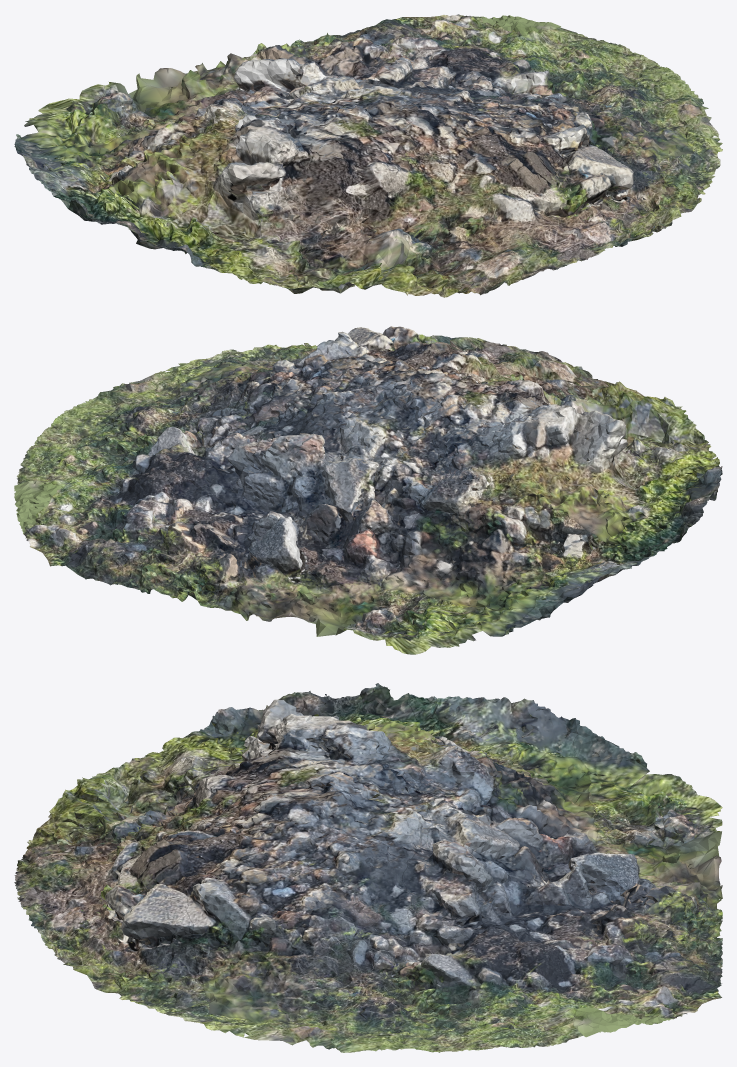
3 renders of one model, top to bottom at view 1: azimuth 30°, elevation 25°; view 2: azimuth 150°, elevation 25°; view 3: azimuth 270°, elevation 25°, orthographic. The views are drawn at different scales.
Parts seen in each view (by area): view 1: texturedMesh; view 2: texturedMesh; view 3: texturedMesh.
Part boxes in pixels (x1,y1,x2,y2): texturedMesh: [14, 14, 722, 297]; texturedMesh: [14, 326, 722, 654]; texturedMesh: [14, 683, 722, 1052].
Size of the model in its own units: 227 by 37.02 by 205.
Materials: 1 (1 with a texture image).
